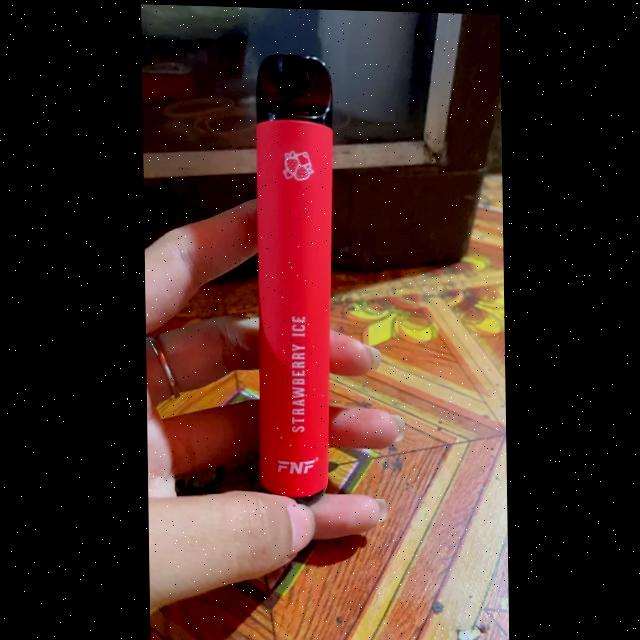vape: (253, 49, 333, 496)
